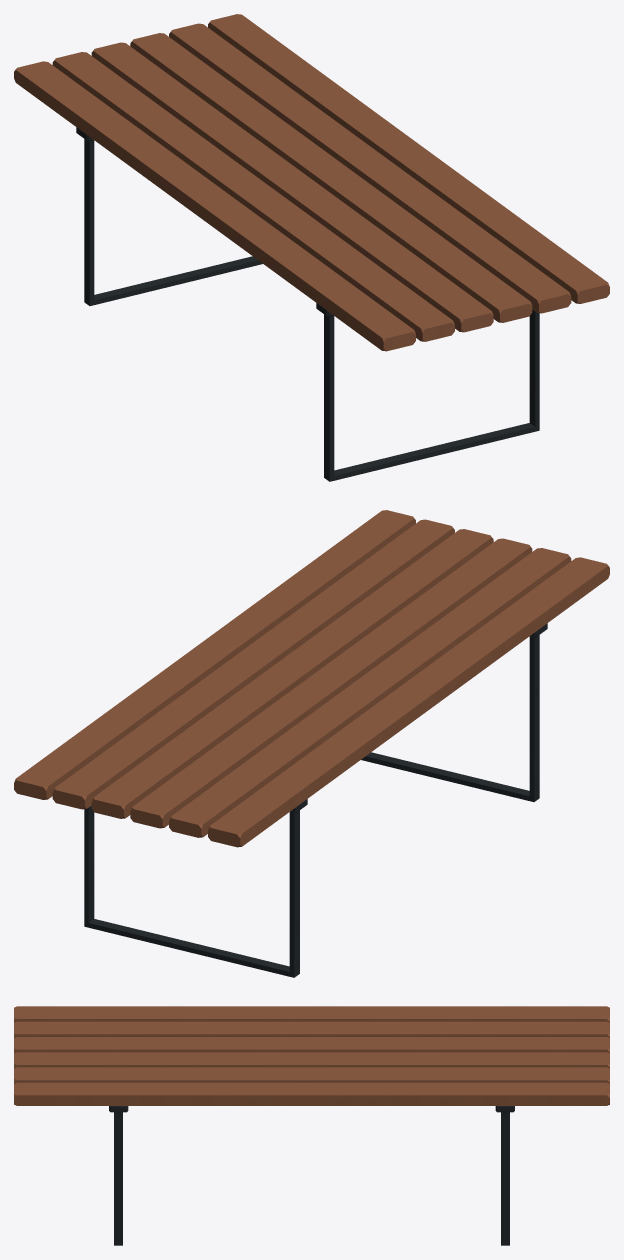
Rendered from Table_04_03.fbx.
The picture shows the model from 3 angles, top to bottom: view 1: azimuth 30°, elevation 25°; view 2: azimuth 150°, elevation 25°; view 3: azimuth 270°, elevation 25°; orthographic projection. The views are drawn at different scales.
Parts seen in each view (by area): view 1: Table_04_03; view 2: Table_04_03; view 3: Table_04_03.
Boxes of the visible parts, x1,y1,x2,y2 form: Table_04_03: (14, 14, 609, 481); Table_04_03: (14, 510, 609, 977); Table_04_03: (14, 1006, 609, 1245).
Bounding box in the file's own units: 0.8031 × 0.6451 × 2.27.
